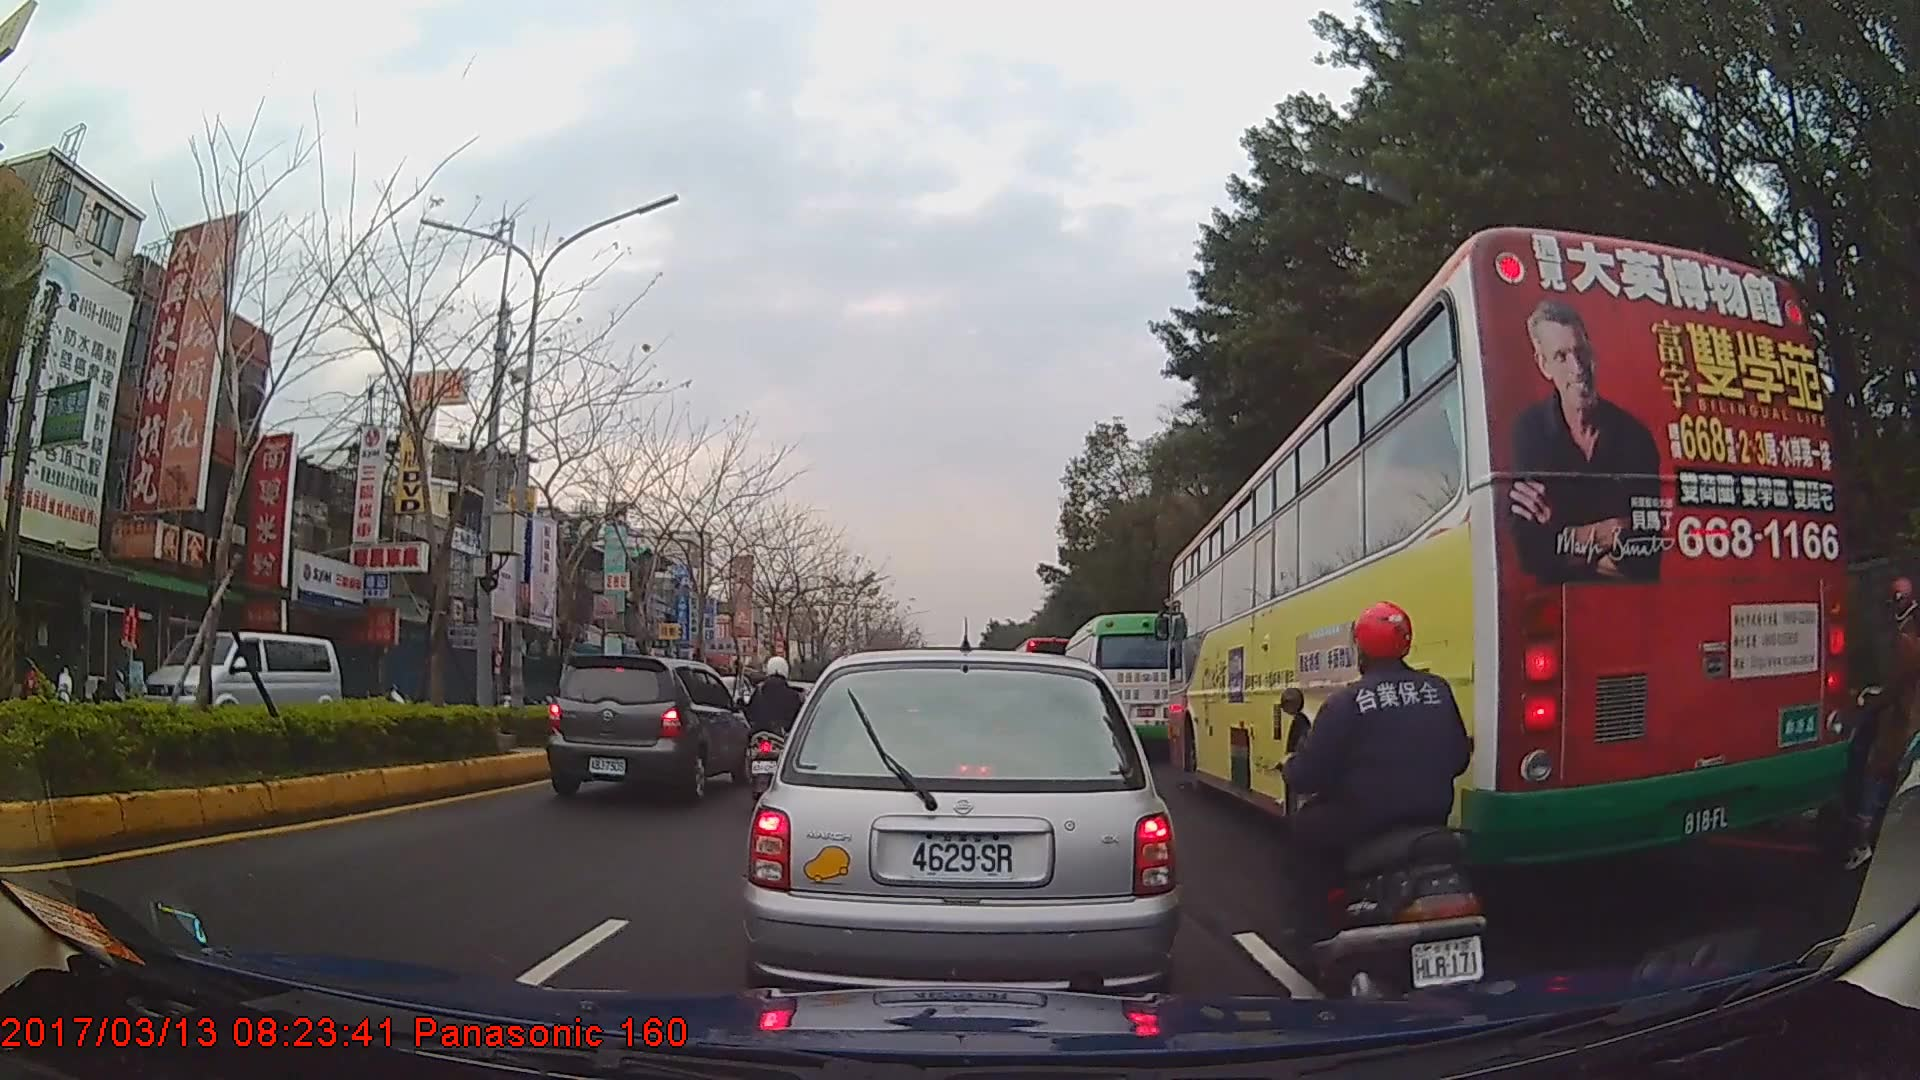rider: (1271, 598, 1492, 1016), (1826, 578, 1920, 875), (742, 656, 808, 788)
vehicle: (1168, 223, 1852, 877), (744, 650, 1179, 1011), (545, 656, 752, 801), (139, 632, 340, 748), (1060, 611, 1183, 756)
